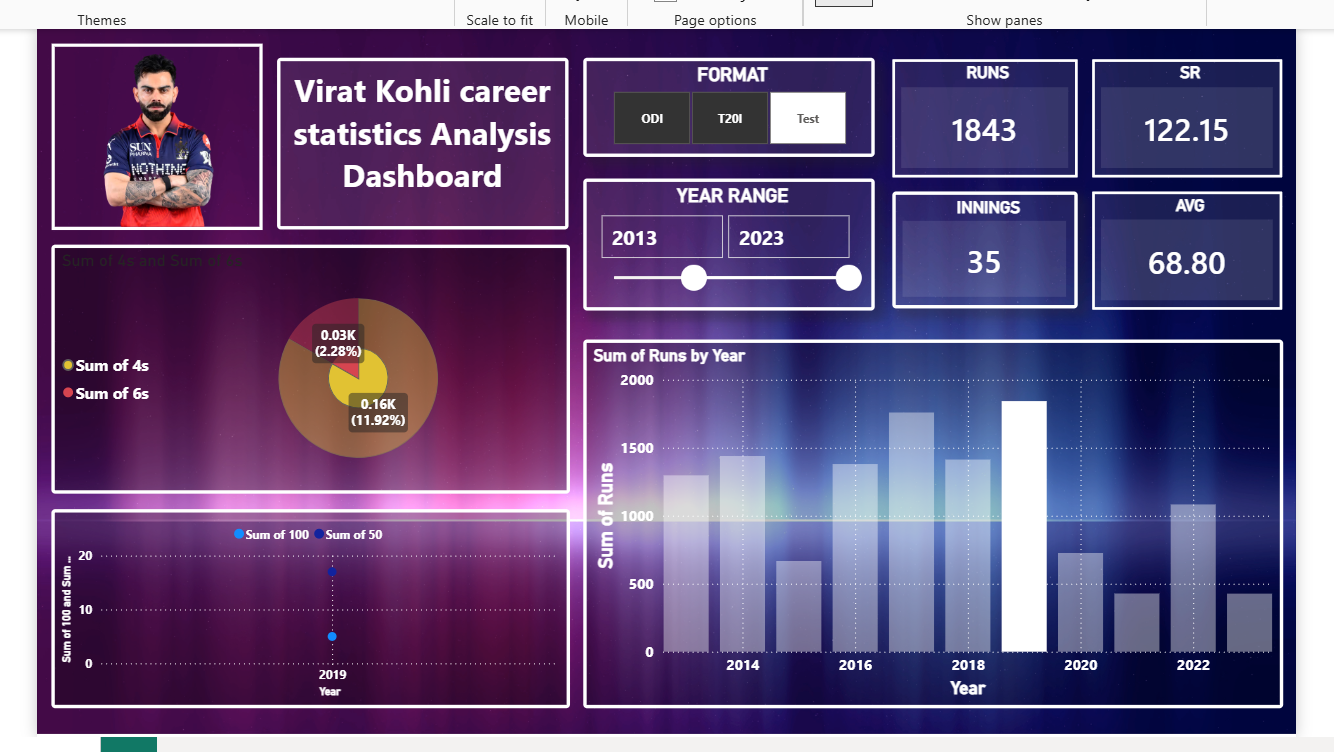

This screenshot's page, from the dashboard's own definition file:
{"tool":"powerbi","page":{"name":"Page 1","canvas":[1280,720],"ordinal":0},"visuals":[{"type":"image","box":[14,14,214.6,190.2],"z":0},{"type":"textbox","box":[244.3,29.7,296.6,174.5],"z":1},{"type":"cardVisual","title":"INNINGS","fields":{"Data":["Sum(Sheet1.Innings)"]},"box":[869,165.8,188.5,118.7],"z":2},{"type":"cardVisual","title":"RUNS","fields":{"Data":["Sum(Sheet1.Runs)"]},"box":[869,31.4,188.5,120.4],"z":3},{"type":"cardVisual","title":"AVG","fields":{"Data":["Avg(Sheet1.Avg)"]},"box":[1073.1,165.8,193.7,120.4],"z":5},{"type":"cardVisual","title":"SR","fields":{"Data":["Avg(Sheet1.SR)"]},"box":[1073.1,31.4,193.7,120.4],"z":6},{"type":"slicer","title":"FORMAT","fields":{"Values":["Sheet1.Format"]},"box":[554.9,29.7,296.6,101.2],"z":7},{"type":"slicer","title":"YEAR RANGE","fields":{"Values":["Sheet1.Year"]},"box":[554.9,151.8,296.6,134.4],"z":8},{"type":"clusteredColumnChart","fields":{"Y":["Sum(Sheet1.Runs)"],"Category":["Sheet1.Year"]},"box":[554.9,315.8,711.9,375.2],"z":9},{"type":"pieChart","fields":{"Y":["Sum(Sheet1.4s)","Sum(Sheet1.6s)"]},"box":[14,219.9,527,253],"z":10},{"type":"stackedAreaChart","fields":{"Y":["Sum(Sheet1.100)","Sum(Sheet1.50)"],"Category":["Sheet1.Year"]},"box":[14,488.6,527,202.4],"z":11}]}

Visuals, with their boxes in screenshot pixels (x1, y1, x2, y2):
image: 45 35 258 223
textbox: 273 50 567 223
"INNINGS" cardVisual: 893 185 1080 303
"RUNS" cardVisual: 893 52 1080 171
"AVG" cardVisual: 1095 185 1287 305
"SR" cardVisual: 1095 52 1287 171
"FORMAT" slicer: 581 50 875 151
"YEAR RANGE" slicer: 581 171 875 305
clusteredColumnChart - Sum(Sheet1.Runs) x Sheet1.Year: 581 334 1287 706
pieChart - Sum(Sheet1.4s) x Sum(Sheet1.6s): 45 239 568 490
stackedAreaChart - Sum(Sheet1.100) x Sum(Sheet1.50): 45 505 568 706
